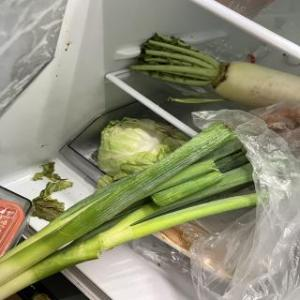cabbage: (96, 116, 194, 180)
onion: (0, 121, 262, 299)
